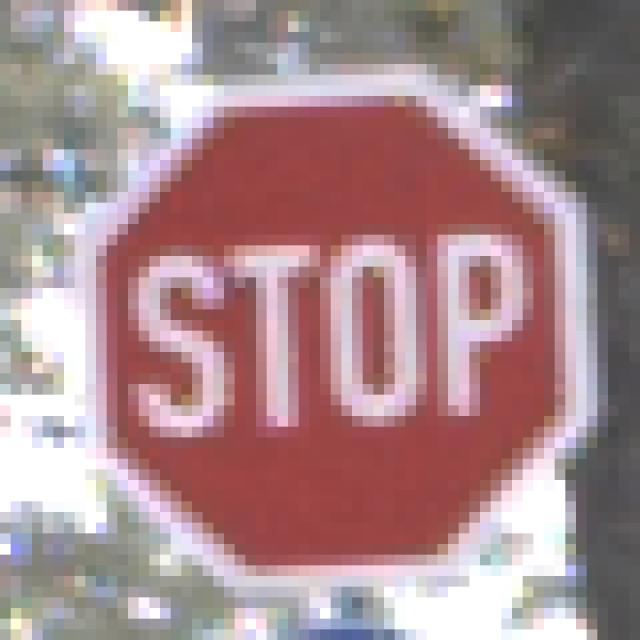STOP: (65, 65, 588, 588)
